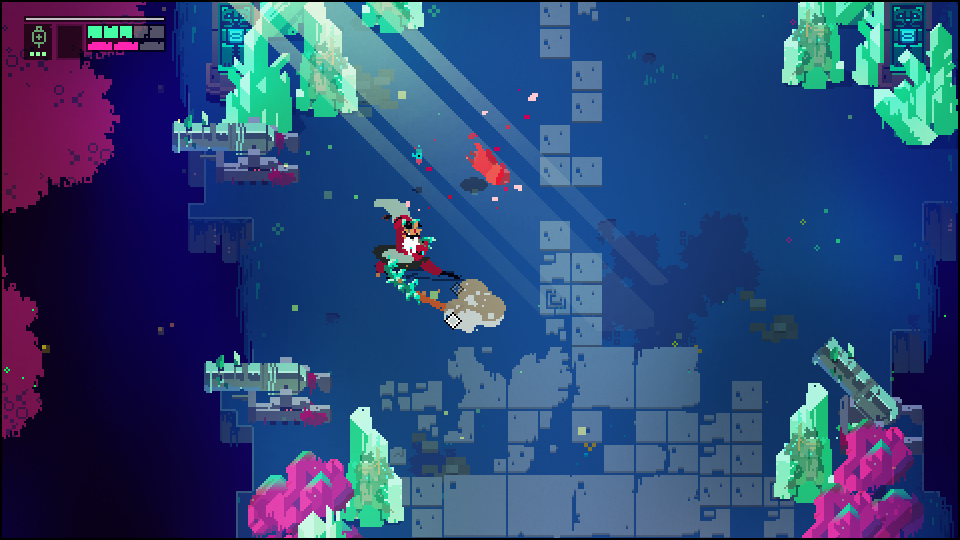hanged_man: (371, 194, 462, 329)
player: (462, 143, 516, 189)
